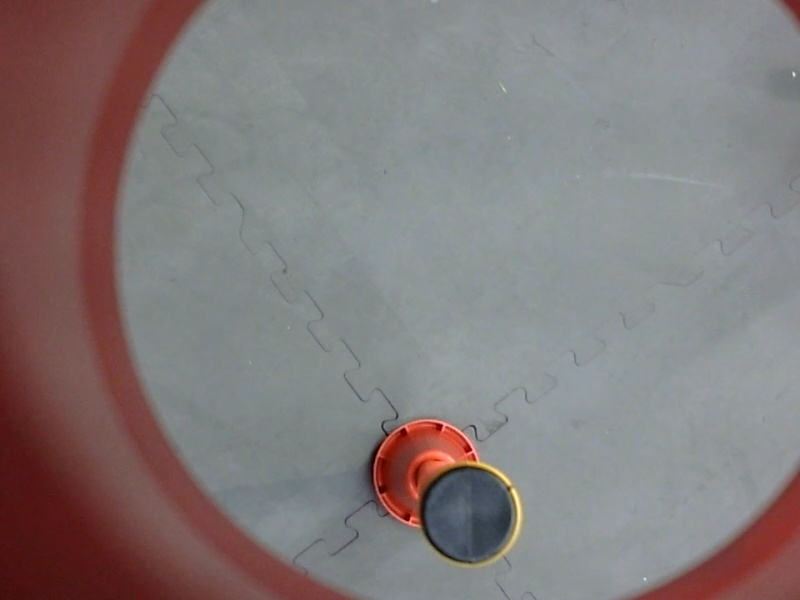tip: (415, 462, 525, 573)
